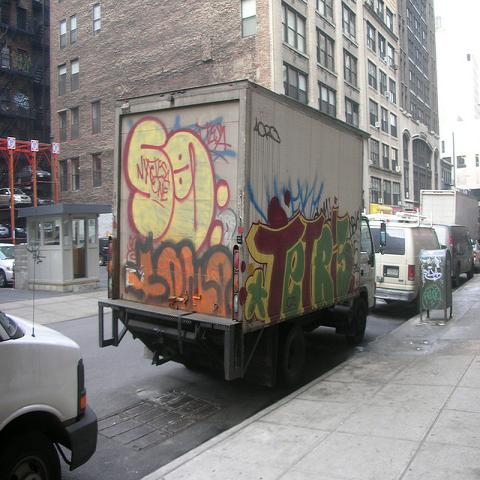car: (0, 311, 98, 479), (374, 224, 441, 313), (430, 224, 475, 292), (16, 164, 51, 184), (0, 243, 15, 288), (0, 188, 32, 208), (3, 218, 26, 238), (38, 190, 55, 205)
truck: (97, 81, 376, 395), (419, 189, 479, 243)
